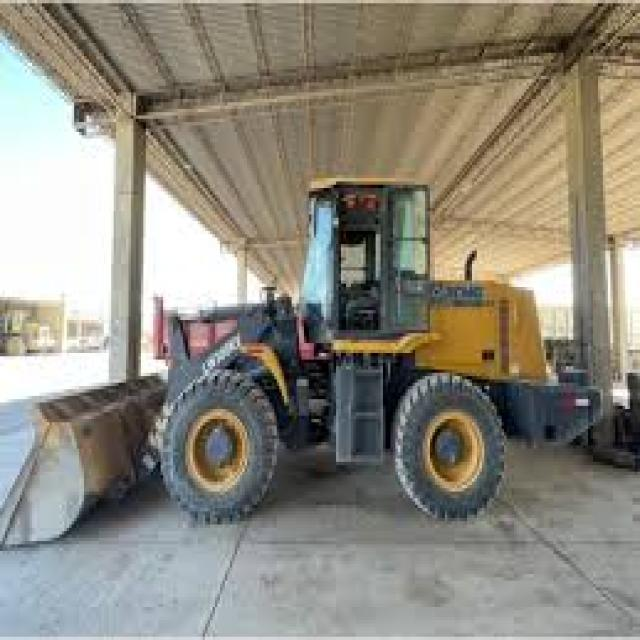buldozerpayloadergrader: (7, 169, 606, 531)
